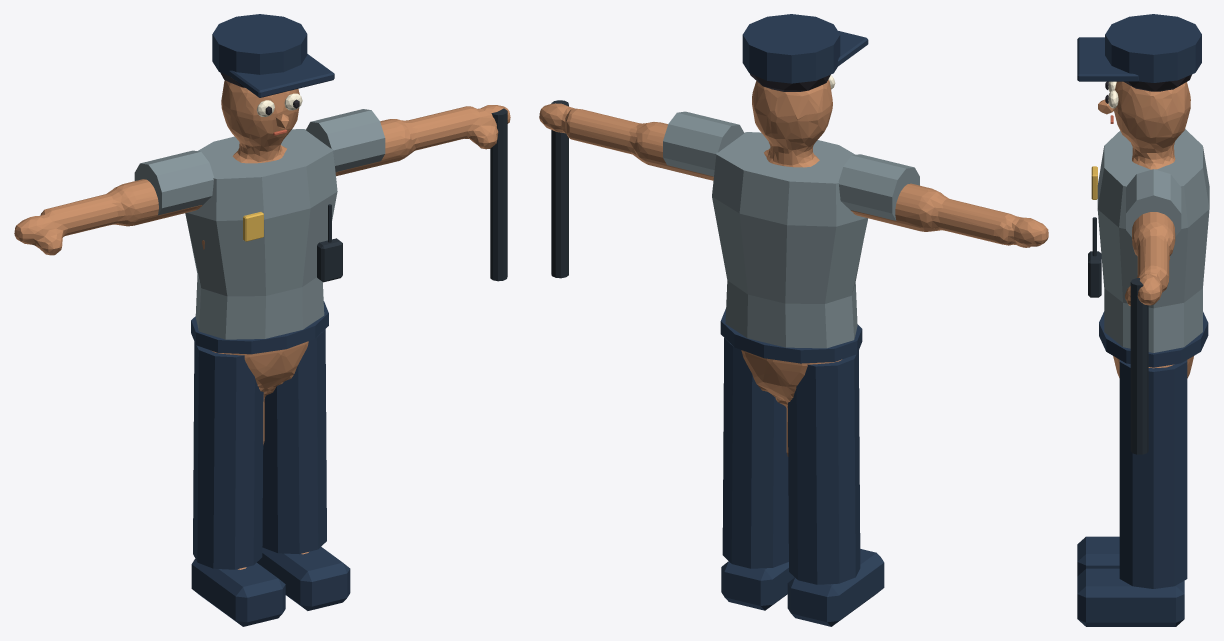
The model's file is Character_Guard.fbx.
The picture shows the model from 3 angles, left to right: view 1: azimuth 30°, elevation 25°; view 2: azimuth 150°, elevation 25°; view 3: azimuth 270°, elevation 25°; orthographic projection. The views are drawn at different scales.
Parts seen in each view (by area): view 1: Shirt.010, Character_Guard_Base_BaseMale_TPose_Body, PantsLeg.018, PantsLeg.019, CapCrown.002, Shoe.020, Shoe.021, Sleeve.020, Sleeve.021, GuardBaton, Belt.010, CapVisor.002 (+1 smaller); view 2: Shirt.010, Character_Guard_Base_BaseMale_TPose_Body, PantsLeg.018, PantsLeg.019, CapCrown.002, Shoe.020, Sleeve.020, Sleeve.021, GuardBaton, Shoe.021, Belt.010; view 3: Shirt.010, PantsLeg.019, Character_Guard_Base_BaseMale_TPose_Body, CapCrown.002, Shoe.021, GuardBaton, Sleeve.021, CapVisor.002, Belt.010, Shoe.020, Radio, HairCap.010 (+1 smaller).
Part boxes in pixels (<box>): Shirt.010: <box>185,129,337,339</box>; Character_Guard_Base_BaseMale_TPose_Body: <box>14,80,510,569</box>; PantsLeg.018: <box>193,342,263,569</box>; PantsLeg.019: <box>262,329,326,554</box>; CapCrown.002: <box>212,14,307,75</box>; Shoe.020: <box>191,559,285,626</box>; Shoe.021: <box>257,547,350,610</box>; Sleeve.020: <box>134,150,213,215</box>; Sleeve.021: <box>306,109,385,172</box>; GuardBaton: <box>490,108,507,281</box>; Belt.010: <box>191,301,328,354</box>; CapVisor.002: <box>229,54,334,97</box>; Shirt.010: <box>712,132,868,348</box>; Character_Guard_Base_BaseMale_TPose_Body: <box>539,79,1048,456</box>; PantsLeg.018: <box>788,350,860,584</box>; PantsLeg.019: <box>722,337,788,568</box>; CapCrown.002: <box>742,14,840,83</box>; Shoe.020: <box>787,549,884,626</box>; Sleeve.020: <box>838,154,919,220</box>; Sleeve.021: <box>663,111,744,176</box>; GuardBaton: <box>551,100,568,278</box>; Shoe.021: <box>721,561,794,610</box>; Belt.010: <box>720,309,862,363</box>; Shirt.010: <box>1097,129,1209,352</box>; PantsLeg.019: <box>1119,360,1187,588</box>; Character_Guard_Base_BaseMale_TPose_Body: <box>1113,81,1193,378</box>; CapCrown.002: <box>1105,14,1201,82</box>; Shoe.021: <box>1077,568,1184,626</box>; GuardBaton: <box>1130,278,1148,454</box>; Sleeve.021: <box>1126,169,1181,236</box>; CapVisor.002: <box>1077,37,1138,81</box>; Belt.010: <box>1099,311,1208,367</box>; Shoe.020: <box>1077,536,1119,576</box>; Radio: <box>1088,251,1101,297</box>; HairCap.010: <box>1124,74,1191,91</box>.
Bounding box in the file's own units: 1.68 × 1.82 × 0.3817.
